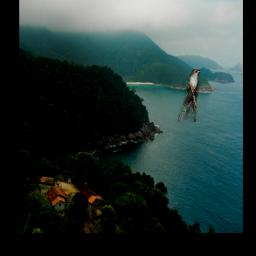Cuckoo: (179, 69, 201, 122)
